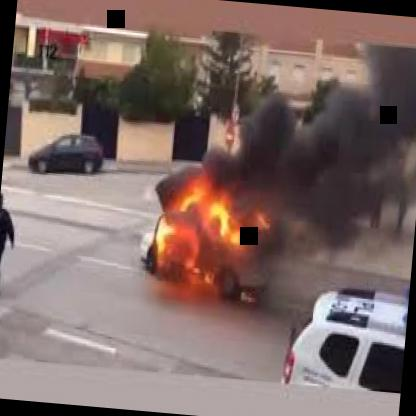fire: (111, 156, 309, 305)
